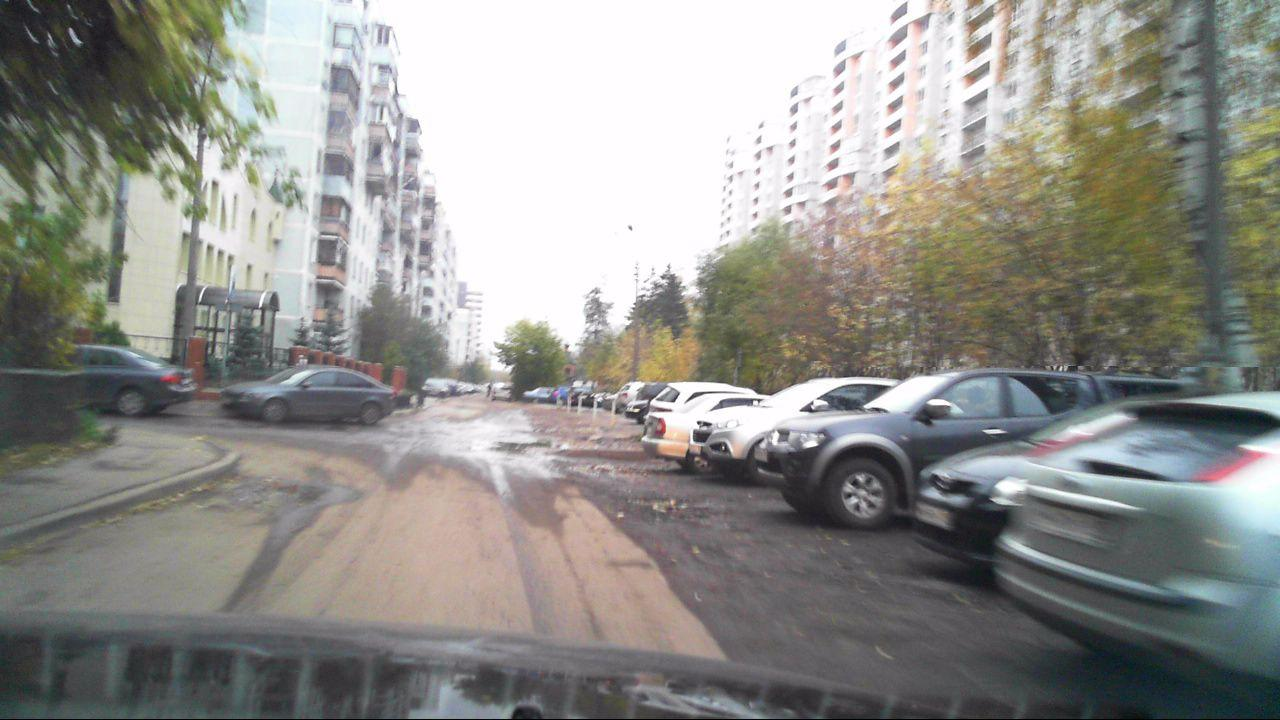pothole: (207, 471, 359, 521), (621, 490, 736, 525)
